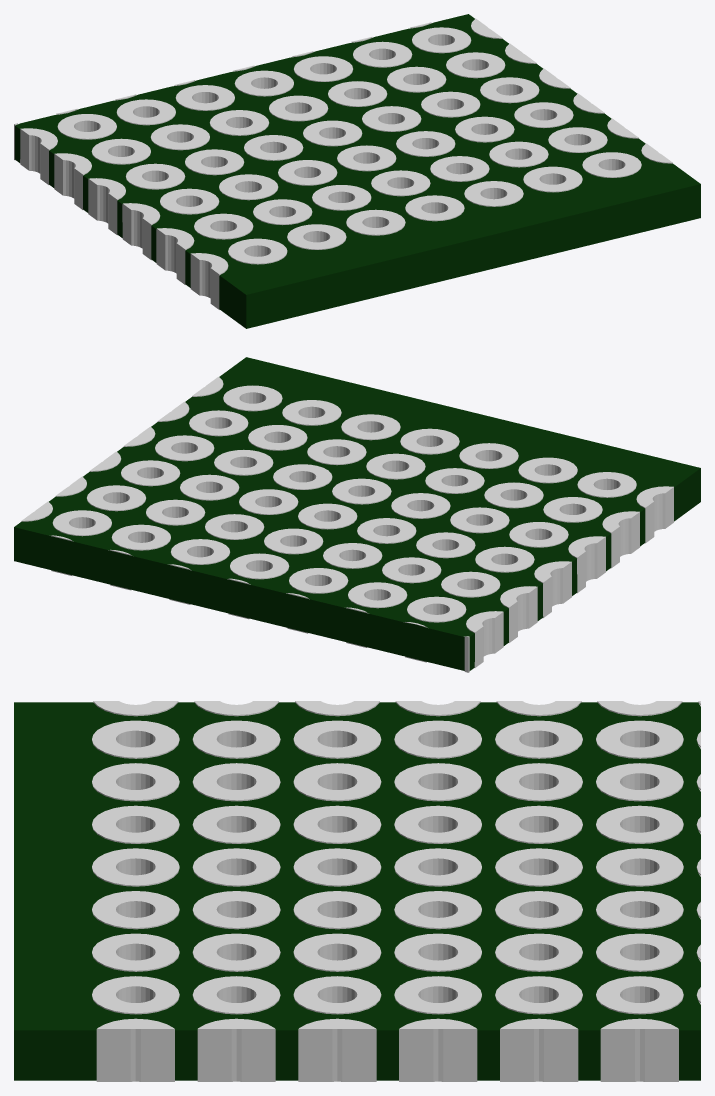
The model's file is LightsPCB.gltf.
3 renders of one model, top to bottom at view 1: azimuth 30°, elevation 25°; view 2: azimuth 150°, elevation 25°; view 3: azimuth 270°, elevation 25°, orthographic. The views are drawn at different scales.
Visible parts, largest first — view 1: PrototypePCB; view 2: PrototypePCB; view 3: PrototypePCB.
Part boxes in pixels (x1,y1,x2,y2): PrototypePCB: [14, 14, 700, 328]; PrototypePCB: [14, 357, 700, 672]; PrototypePCB: [14, 701, 700, 1081].
Size of the model in its own units: 0.02 by 0.0015 by 0.0177.
